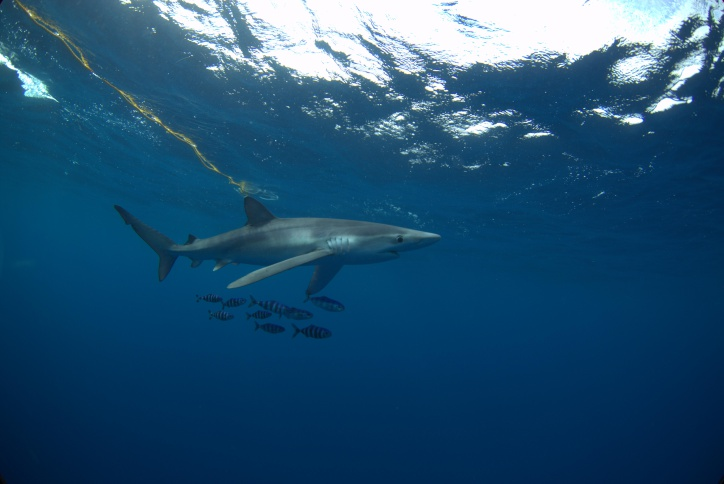Azul: (105, 169, 449, 347), (296, 248, 502, 386)
